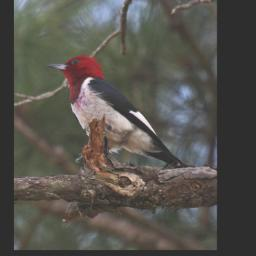Woodpecker: (43, 53, 196, 169)
